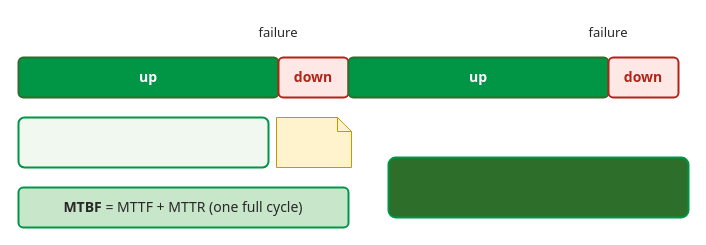
This 706x245 diagram has some shape labels left out. The shapes that lost their labels are listed below. From the top down, each one's box as (x1, y1, x2, y2) in pixels, then its label:
(17, 116, 269, 168): MTTF = 1/λ mean time to failure
(276, 116, 352, 168): MTTR repair
(387, 156, 689, 218): Availability A = MTTF / (MTTF + MTTR) share of time the service is up
